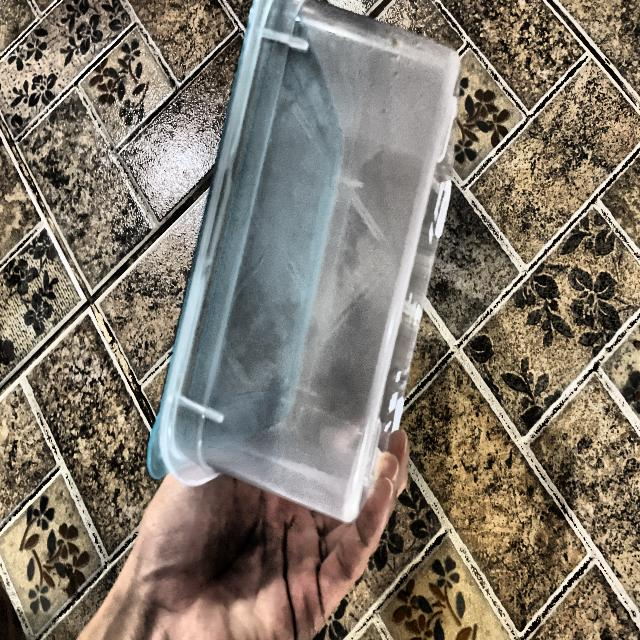plastic container: (174, 36, 478, 525)
